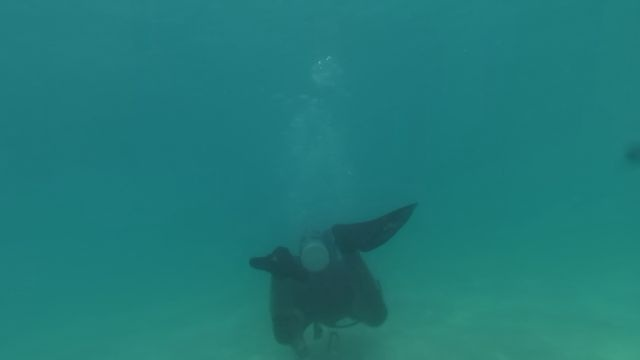Diver: (244, 203, 421, 355)
